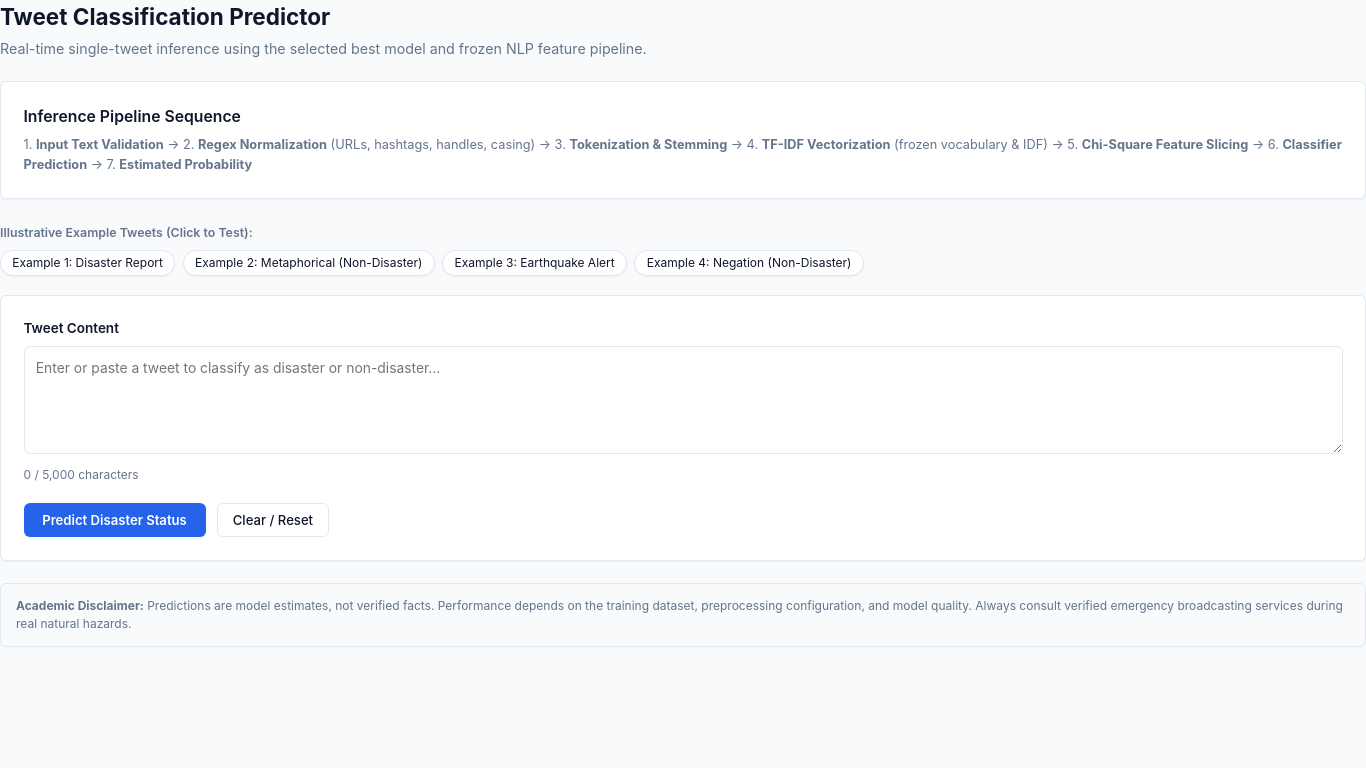
Test: Prediction Page Component Tests (T16) › successfully predicts Disaster (Class 1) and displays probabilities and model badge
Replace the text in the text box with placeholder "Enter or paste a tweet to classify" with "Forest fire expanding rapidly near residential buildings" at (683,400), box top-left (24, 346), bottom-right (1342, 454)
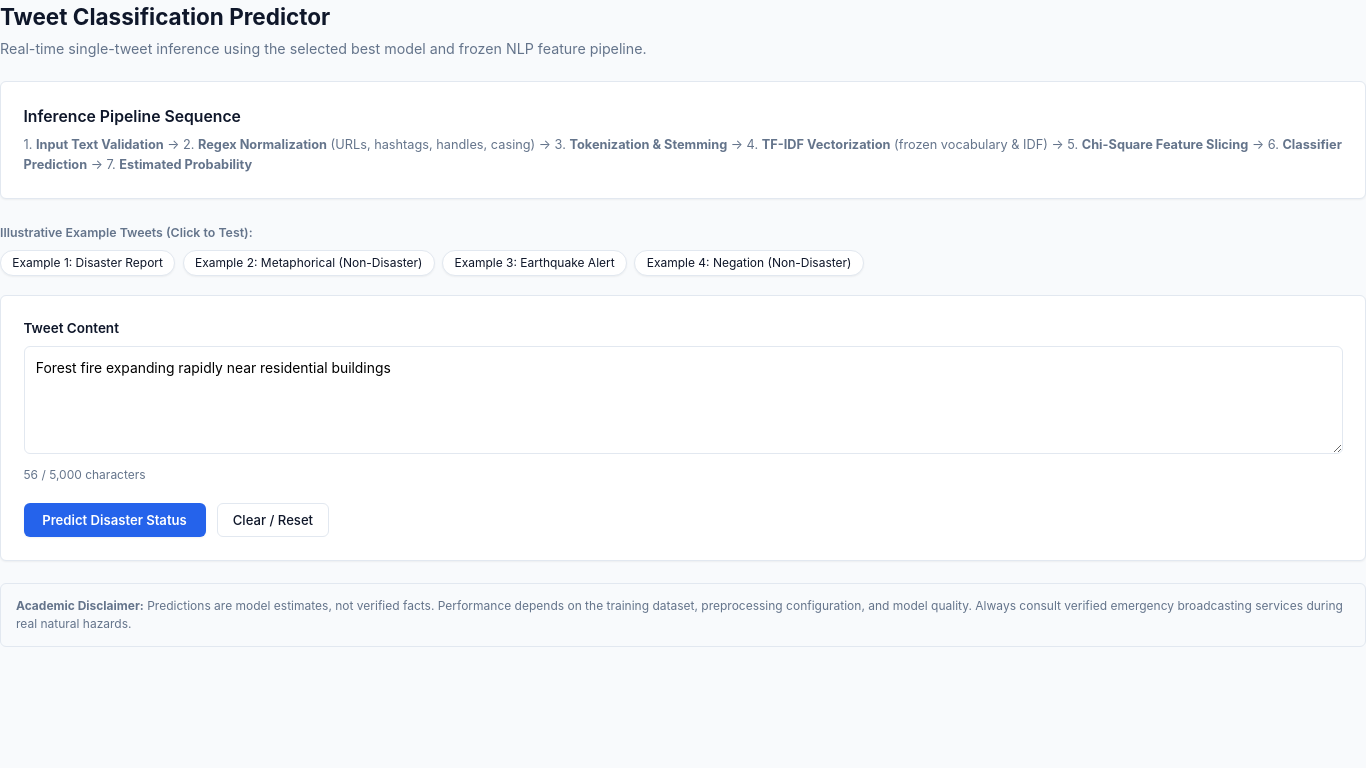
Click the button "Predict Disaster Status" at (114,520), box top-left (24, 503), bottom-right (206, 537)
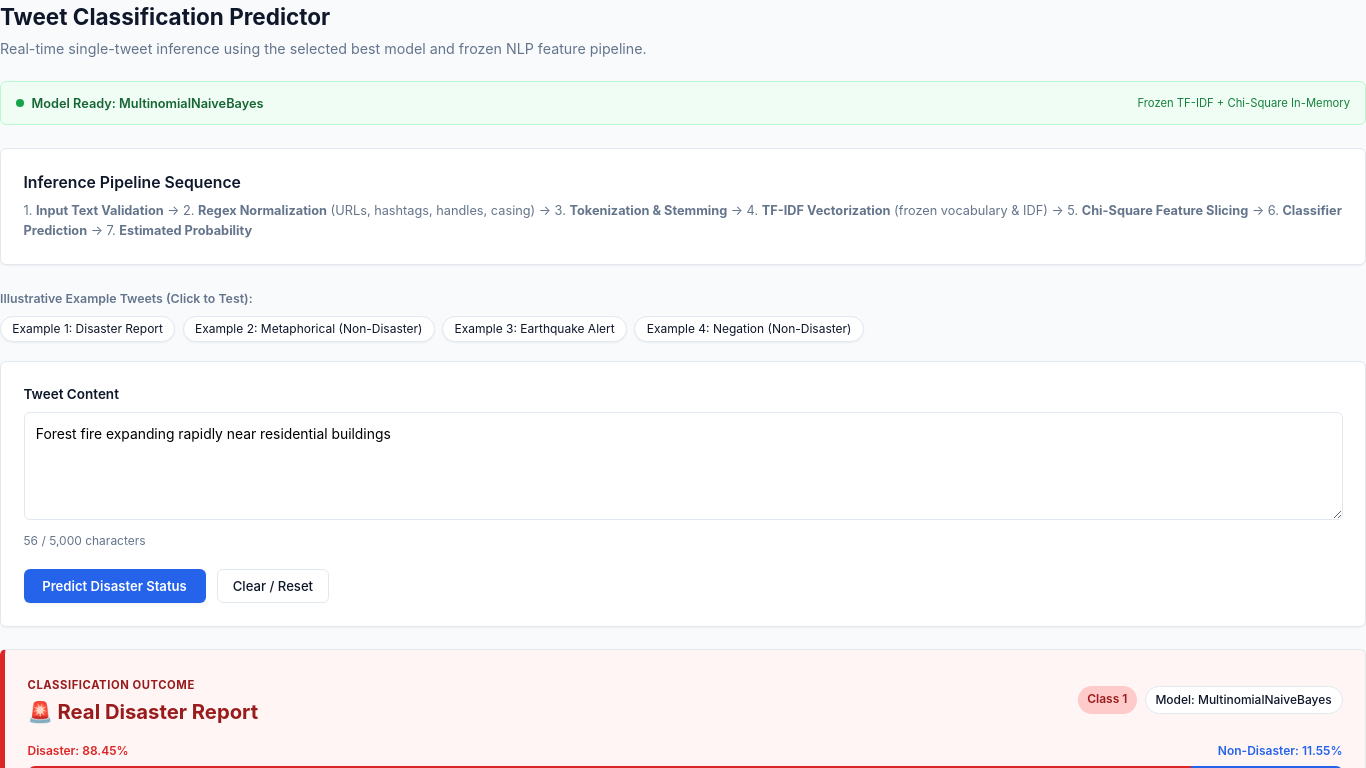
expect the heading "🚨 Real Disaster Report" is shown: met, box top-left (28, 697), bottom-right (258, 727)
expect the text "Class 1" is shown: met, box top-left (1078, 686), bottom-right (1137, 714)
expect the text "Model Ready: MultinomialNaiveBayes" is shown: met, box top-left (32, 94), bottom-right (264, 113)
